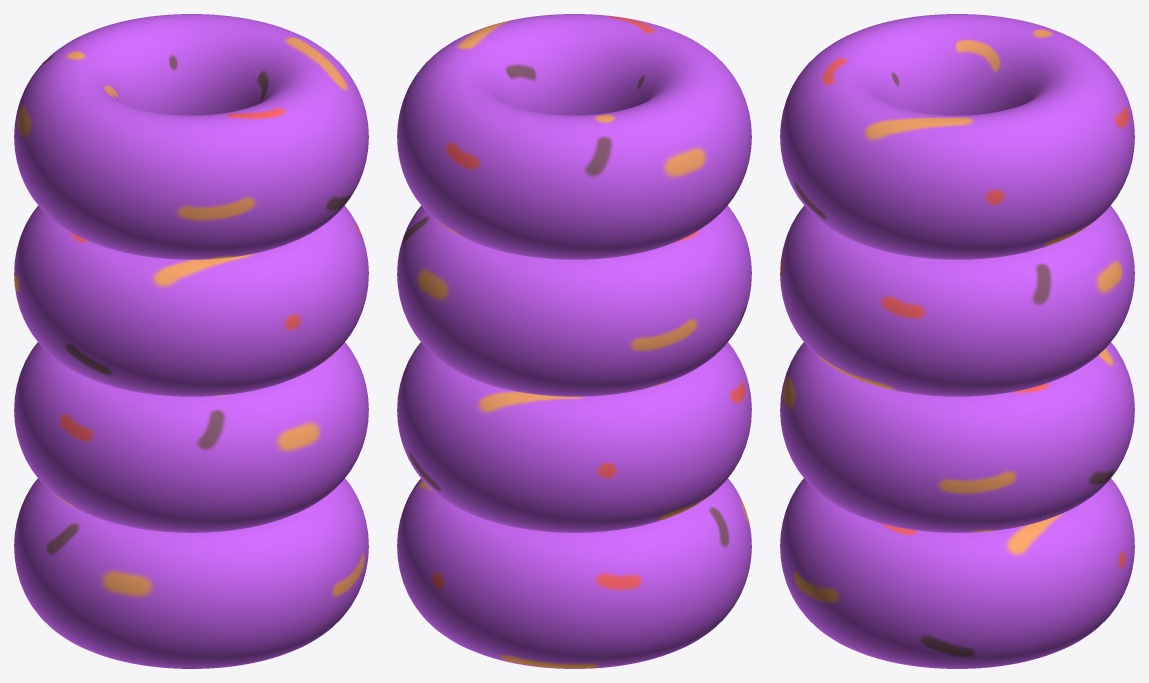
The model's file is torus_purple.fbx.
3 views of the same model, side by side, from view 1: azimuth 30°, elevation 25°; view 2: azimuth 150°, elevation 25°; view 3: azimuth 270°, elevation 25° (orthographic).
Visible parts, largest first — view 1: Torus.007, Torus.006, Torus.005, Torus.004; view 2: Torus.007, Torus.006, Torus.005, Torus.004; view 3: Torus.007, Torus.006, Torus.005, Torus.004.
Part boxes in pixels (x1,y1,x2,y2): Torus.007: (14, 14, 368, 259); Torus.006: (14, 205, 368, 396); Torus.005: (14, 342, 368, 532); Torus.004: (14, 478, 368, 668); Torus.007: (397, 14, 751, 259); Torus.006: (397, 205, 751, 396); Torus.005: (397, 342, 751, 532); Torus.004: (397, 478, 751, 668); Torus.007: (780, 14, 1134, 259); Torus.006: (780, 205, 1134, 396); Torus.005: (780, 342, 1134, 532); Torus.004: (780, 478, 1134, 668).
Bounding box in the file's own units: 147 × 249 × 147.
